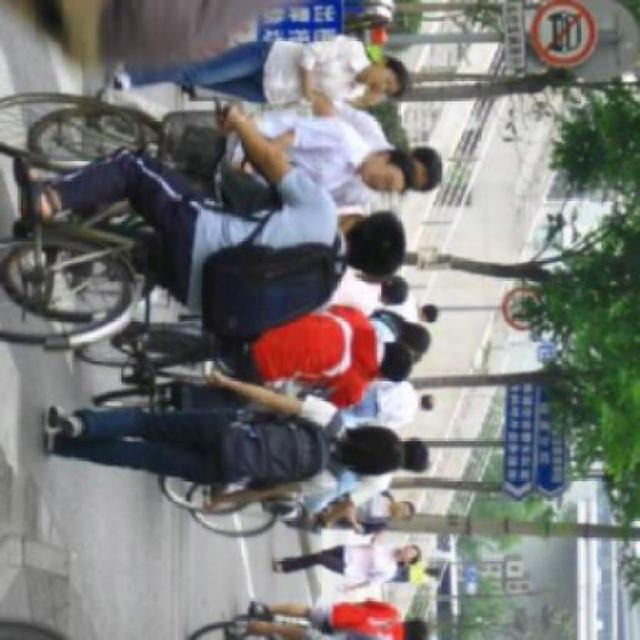Person: (7, 140, 411, 332), (19, 391, 415, 515), (139, 307, 418, 413), (82, 36, 410, 107), (183, 109, 409, 200), (274, 536, 429, 590)
